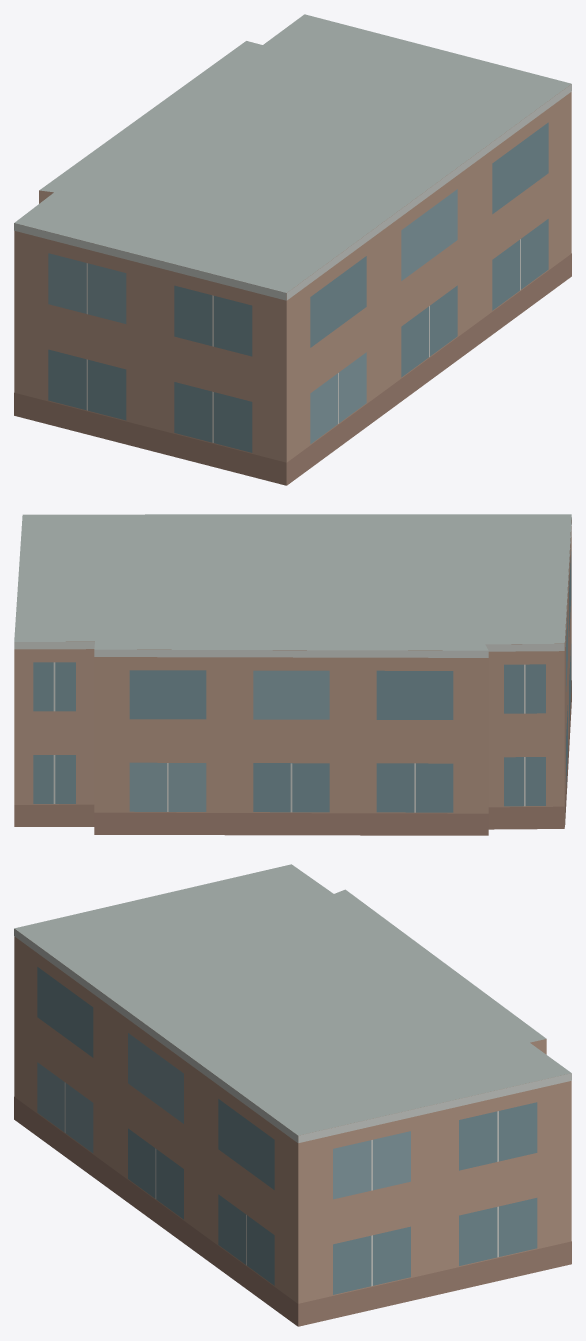
File: survey-upis-32760263.glb
The picture shows the model from 3 angles, top to bottom: view 1: azimuth 30°, elevation 25°; view 2: azimuth 150°, elevation 25°; view 3: azimuth 270°, elevation 25°; orthographic projection. The views are drawn at different scales.
Visible parts, largest first — view 1: survey-upis-32760263.tmp; view 2: survey-upis-32760263.tmp; view 3: survey-upis-32760263.tmp.
Boxes of the visible parts, box(x1,y1,x2,y2) form: survey-upis-32760263.tmp: box(14, 14, 571, 485); survey-upis-32760263.tmp: box(14, 514, 571, 835); survey-upis-32760263.tmp: box(14, 864, 571, 1326).
Size of the model in its own units: 18.6 by 6.1 by 16.15.
